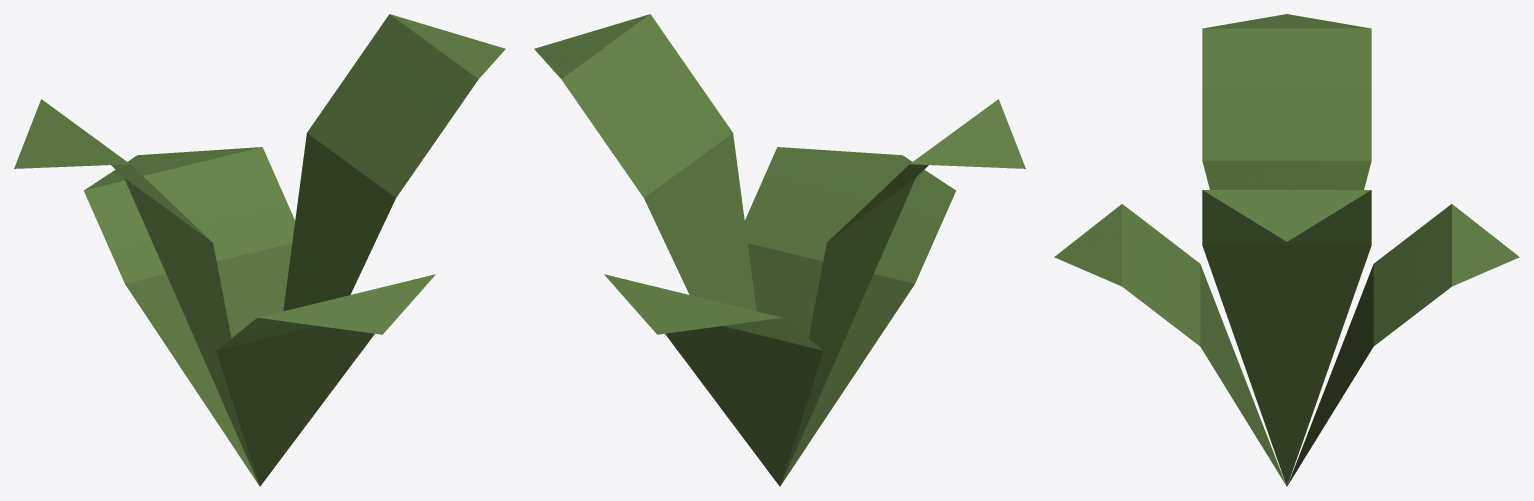
File: bush.glb
3 renders of one model, left to right at view 1: azimuth 30°, elevation 25°; view 2: azimuth 150°, elevation 25°; view 3: azimuth 270°, elevation 25°, orthographic. The views are drawn at different scales.
Parts seen in each view (by area): view 1: bush; view 2: bush; view 3: bush.
Boxes of the visible parts, <box> form: bush: <box>14,14,505,486</box>; bush: <box>534,14,1025,486</box>; bush: <box>1054,14,1519,486</box>.
Size of the model in its own units: 1.1 by 0.85 by 0.95.
